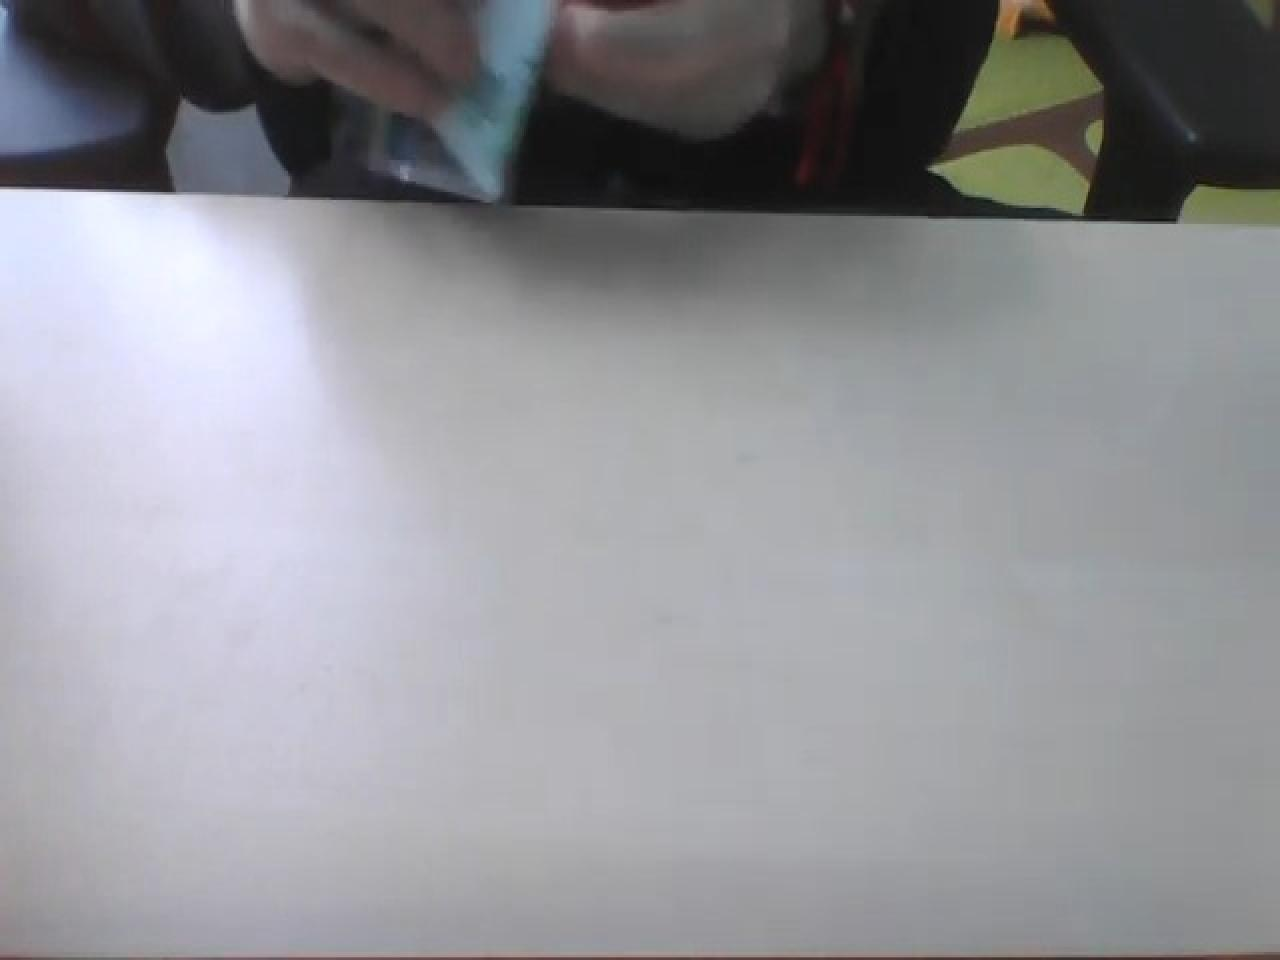100leva: (4, 0, 1274, 219)
